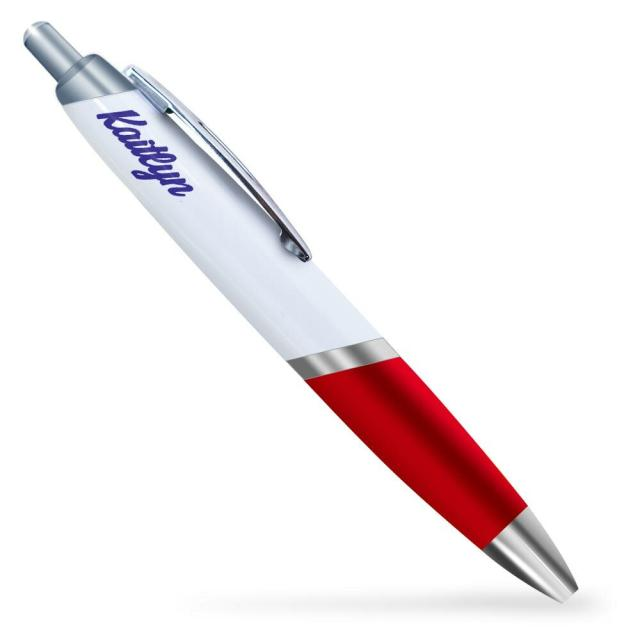pen: (3, 3, 605, 624)
